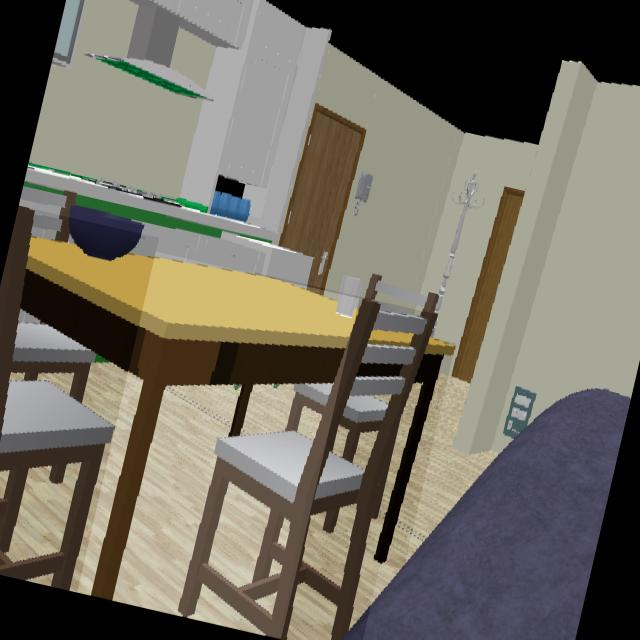cabinet: (149, 0, 304, 206)
chair: (178, 300, 435, 640), (0, 205, 114, 590)
stove: (70, 176, 180, 205)
table: (20, 237, 352, 599), (373, 337, 455, 564)
